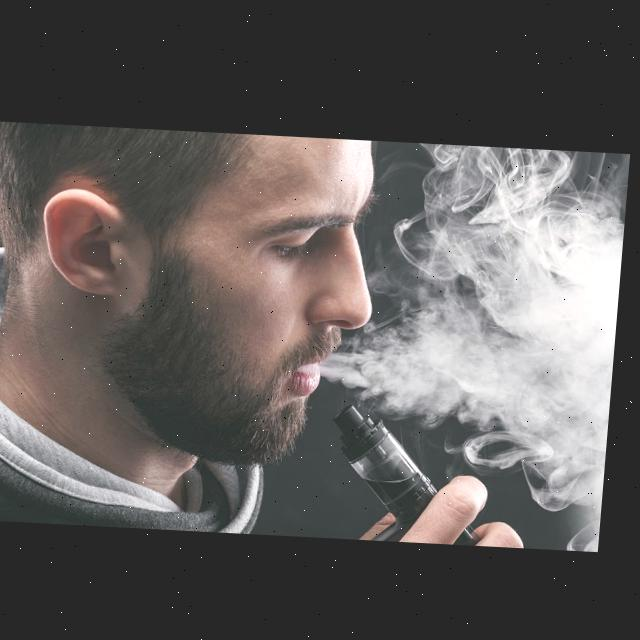vape: (331, 398, 499, 540)
